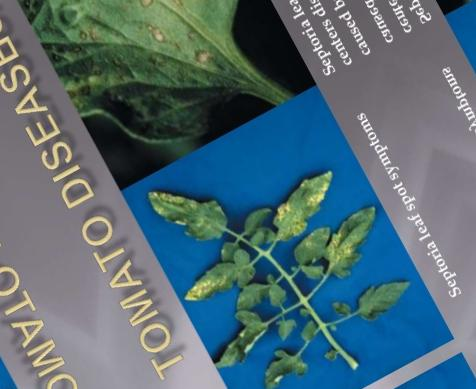Tomato Septoria leaf spot: (41, 0, 307, 176), (137, 158, 246, 265), (298, 183, 400, 286), (253, 164, 354, 254), (172, 238, 272, 319)
